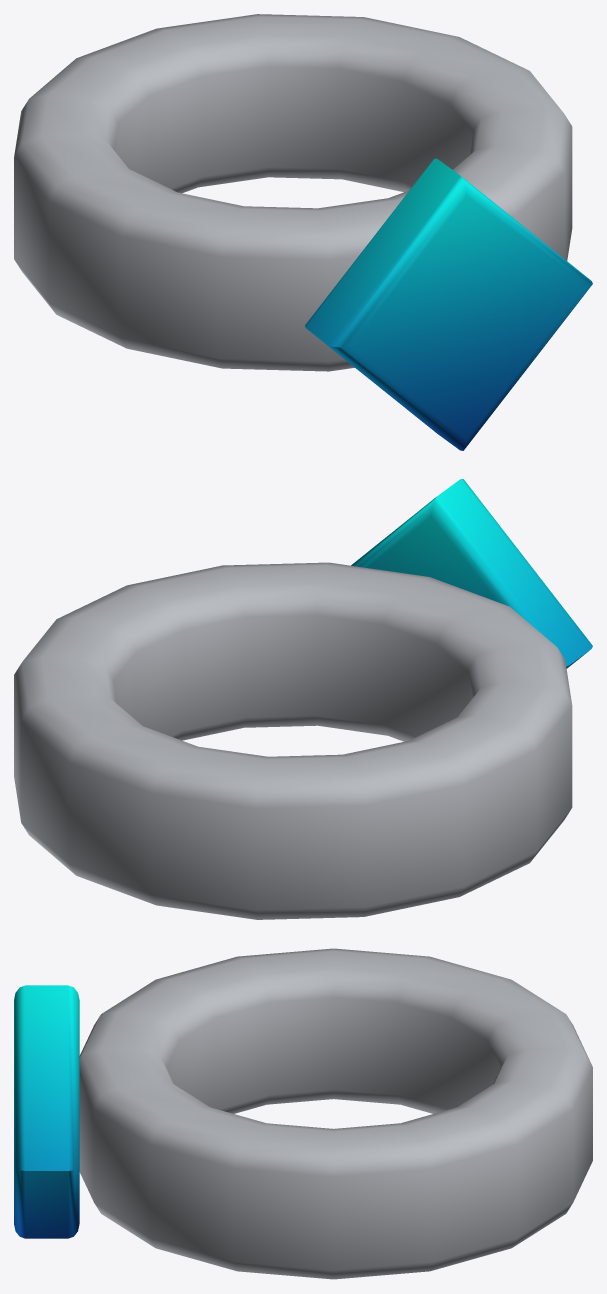
Rendered from Ring2.fbx.
3 views of the same model, one above another, from view 1: azimuth 30°, elevation 25°; view 2: azimuth 150°, elevation 25°; view 3: azimuth 270°, elevation 25° (orthographic). The views are drawn at different scales.
Visible parts, largest first — view 1: Circle.005, Cube.002; view 2: Circle.005, Cube.002; view 3: Circle.005, Cube.002.
Part boxes in pixels (x1=…): Circle.005: x1=14, y1=14, x2=572, y2=371; Cube.002: x1=305, y1=158, x2=592, y2=450; Circle.005: x1=14, y1=562, x2=572, y2=919; Cube.002: x1=351, y1=479, x2=592, y2=668; Circle.005: x1=79, y1=948, x2=592, y2=1279; Cube.002: x1=14, y1=985, x2=79, y2=1238.
Size of the model in its own units: 138 by 74.18 by 154.
